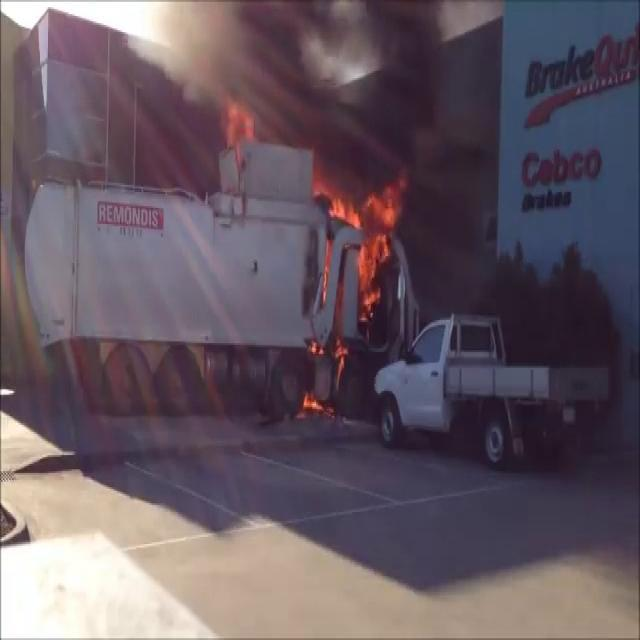Fire: (325, 178, 408, 314)
Smoke: (178, 0, 486, 178)
